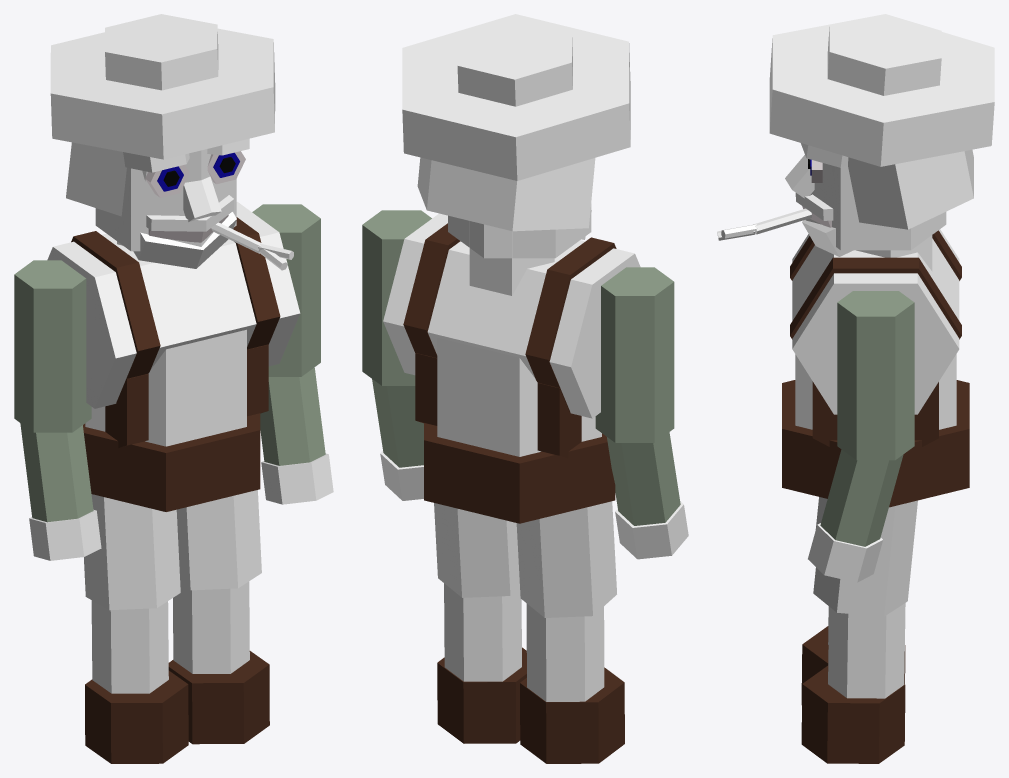
Rendered from Farmer.gltf.
3 renders of one model, left to right at view 1: azimuth 30°, elevation 25°; view 2: azimuth 150°, elevation 25°; view 3: azimuth 270°, elevation 25°, orthographic. The views are drawn at different scales.
Parts seen in each view (by area): view 1: Hat, Torso, Arm.L.001, Torso.002, Torso.001, Leg.L.003, Leg.L.005, Hat.001, Leg.L, Suspenders.001, Leg.L.004, Leg.L.001 (+16 smaller); view 2: Hat, Torso, Torso.002, Arm.L.001, Torso.001, Leg.L.003, Hair, Hat.001, Leg.L.005, Leg.L, Suspenders.001, Leg.L.004 (+10 smaller); view 3: Hat, Arm.L, Torso, Torso.002, Hat.001, Hair, Leg.L.002, Leg.L.001, Leg.L, Arm.L.00111, Suspenders, Head (+10 smaller).
Boxes of the visible parts, x1,y1,x2,y2 form: Hat: (50,28,275,159); Torso: (47,201,300,408); Arm.L.001: (14,260,91,432); Torso.002: (83,413,260,511); Torso.001: (85,329,246,446); Leg.L.003: (84,494,180,610); Leg.L.005: (85,670,188,763); Hat.001: (105,14,218,90); Leg.L: (176,490,261,590); Suspenders.001: (71,231,160,447); Leg.L.004: (91,600,168,693); Leg.L.001: (173,581,249,673); Hat: (402,14,630,180); Torso: (383,213,640,418); Torso.002: (424,423,615,523); Arm.L.001: (595,267,674,442); Torso.001: (437,338,601,456); Leg.L.003: (516,501,616,617); Hair: (417,157,595,231); Hat.001: (457,17,572,106); Leg.L.005: (520,667,624,763); Leg.L: (434,503,519,597); Suspenders.001: (525,237,616,458); Leg.L.004: (526,603,604,701); Hat: (769,24,994,166); Arm.L: (837,291,914,460); Torso: (792,229,959,414); Torso.002: (782,380,969,507); Hat.001: (827,14,941,95); Hair: (831,150,973,229); Leg.L.002: (801,665,905,763); Leg.L.001: (828,603,905,698); Leg.L: (813,498,917,616); Arm.L.00111: (820,449,903,546); Suspenders: (790,257,961,446); Head: (806,163,946,250).
Bounding box in the file's own units: 0.7602 × 1.74 × 0.6375.
